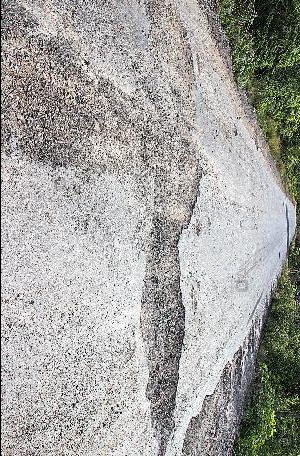pothole: (141, 245, 186, 441), (145, 157, 204, 236)
